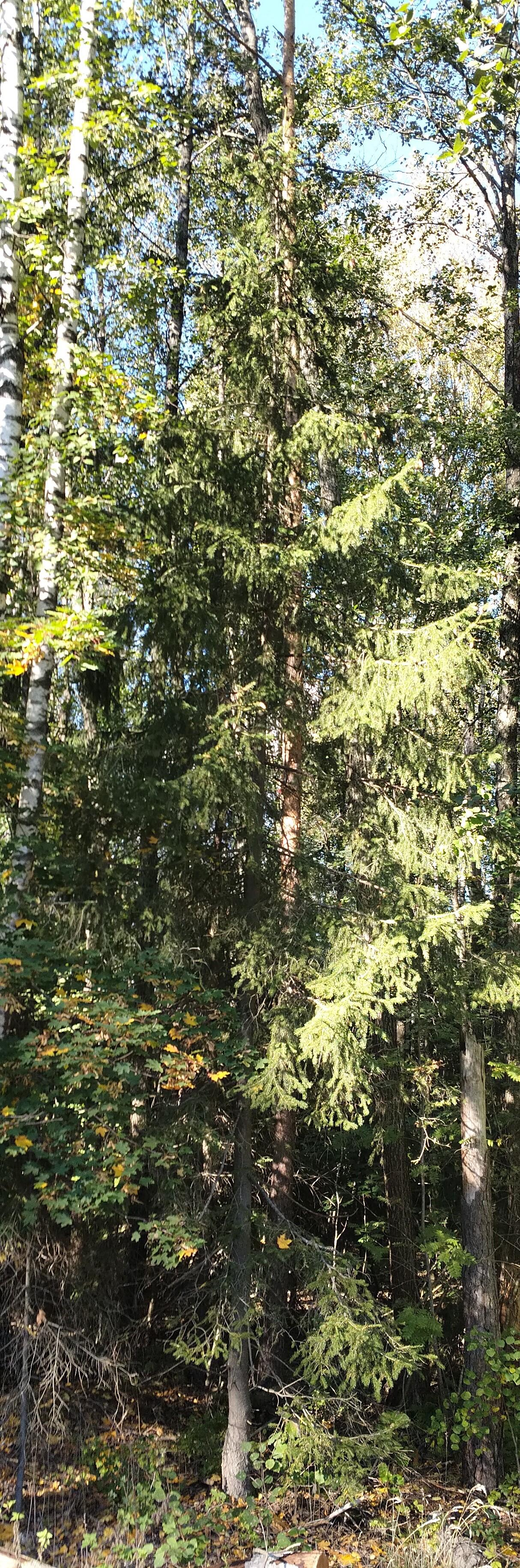Spruce: (3, 0, 517, 1520)
